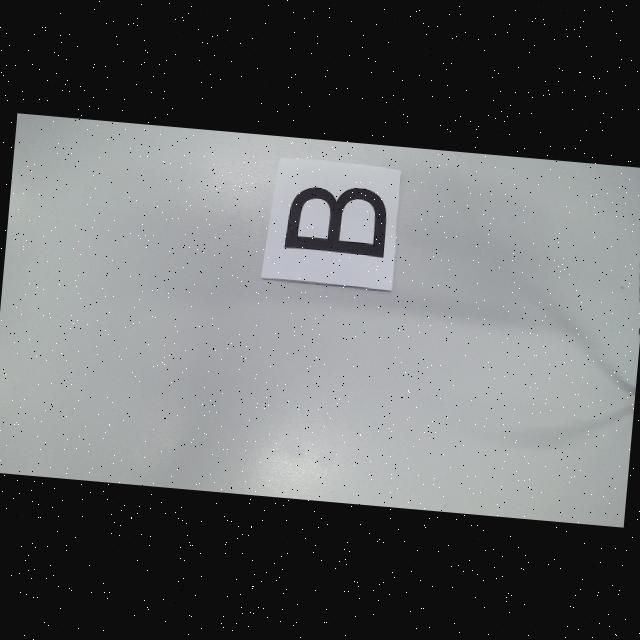FAKE: (284, 181, 390, 257)
